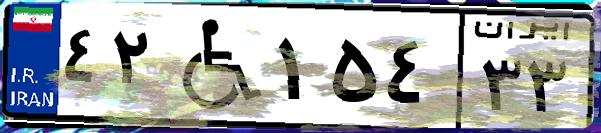1: (270, 28, 330, 110)
2: (110, 28, 158, 98)
3: (475, 38, 525, 113), (525, 38, 570, 115)
4: (385, 28, 445, 110), (57, 26, 110, 100)
5: (330, 28, 385, 110)
ژ (معلولین و جانبازان): (158, 12, 270, 120)
